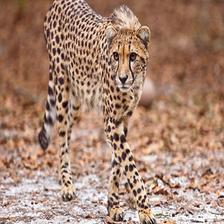Cheetah: (34, 0, 157, 224)
